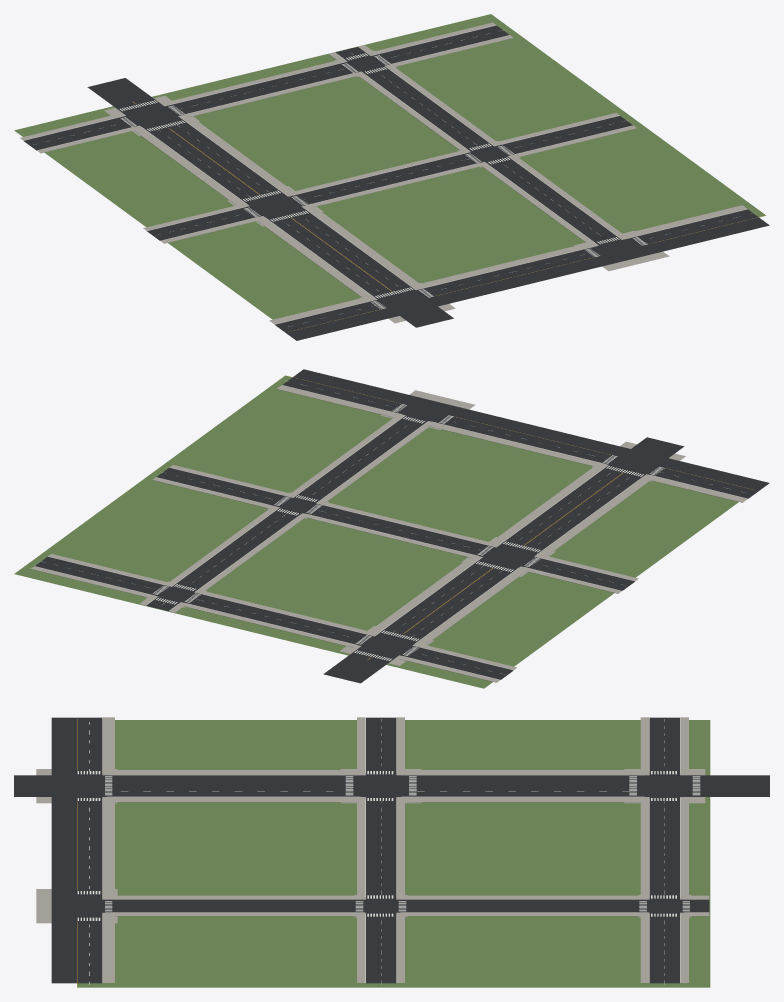
File: Ground_1_4.fbx
The picture shows the model from 3 angles, top to bottom: view 1: azimuth 30°, elevation 25°; view 2: azimuth 150°, elevation 25°; view 3: azimuth 270°, elevation 25°; orthographic projection. The views are drawn at different scales.
Parts seen in each view (by area): view 1: Ground_1_4; view 2: Ground_1_4; view 3: Ground_1_4.
Part boxes in pixels (x1=…): Ground_1_4: x1=14, y1=14, x2=769, y2=340; Ground_1_4: x1=14, y1=369, x2=769, y2=688; Ground_1_4: x1=14, y1=717, x2=769, y2=987.
Bounding box in the file's own units: 252 × 0.14 × 298.
